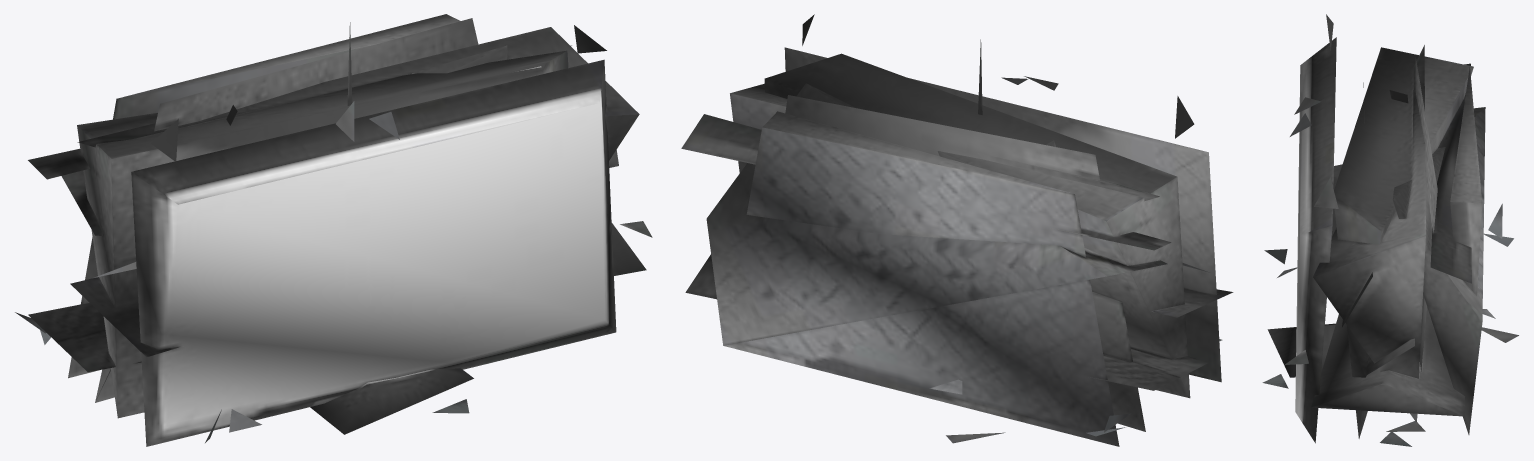
The model's file is space_billboard.glb.
3 views of the same model, side by side, from view 1: azimuth 30°, elevation 25°; view 2: azimuth 150°, elevation 25°; view 3: azimuth 270°, elevation 25° (orthographic). The views are drawn at different scales.
Size of the model in its own units: 1 by 0.682 by 0.5223.
1 material, 1 textured.
